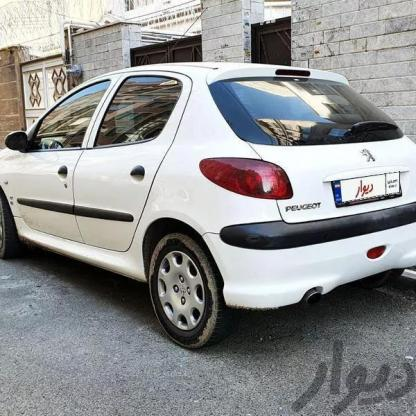Car: (0, 65, 414, 335)
